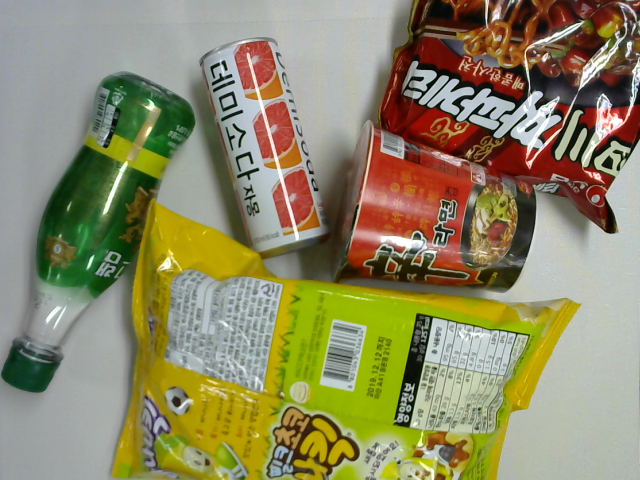Banana_Kick: (115, 197, 588, 480)
Demisoda_Grapefruit_Can_250ml: (198, 34, 329, 273)
Seagram_Lemon_Carbonated_Water: (1, 69, 198, 395)
Sichuan_Chapaghetti: (373, 1, 635, 236)
Sinramen_small: (323, 118, 540, 298)
